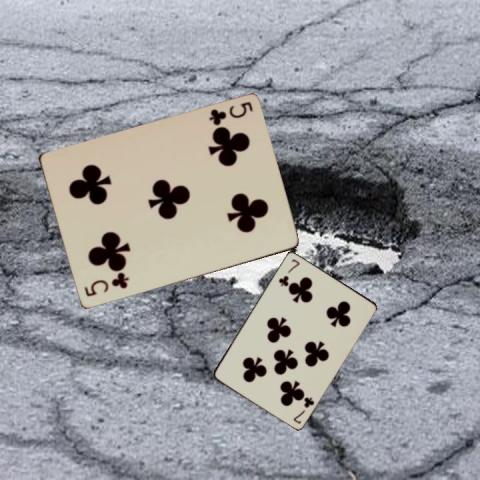5c: (81, 271, 130, 299), (205, 100, 254, 128)
7c: (275, 256, 301, 288), (290, 393, 315, 425)
